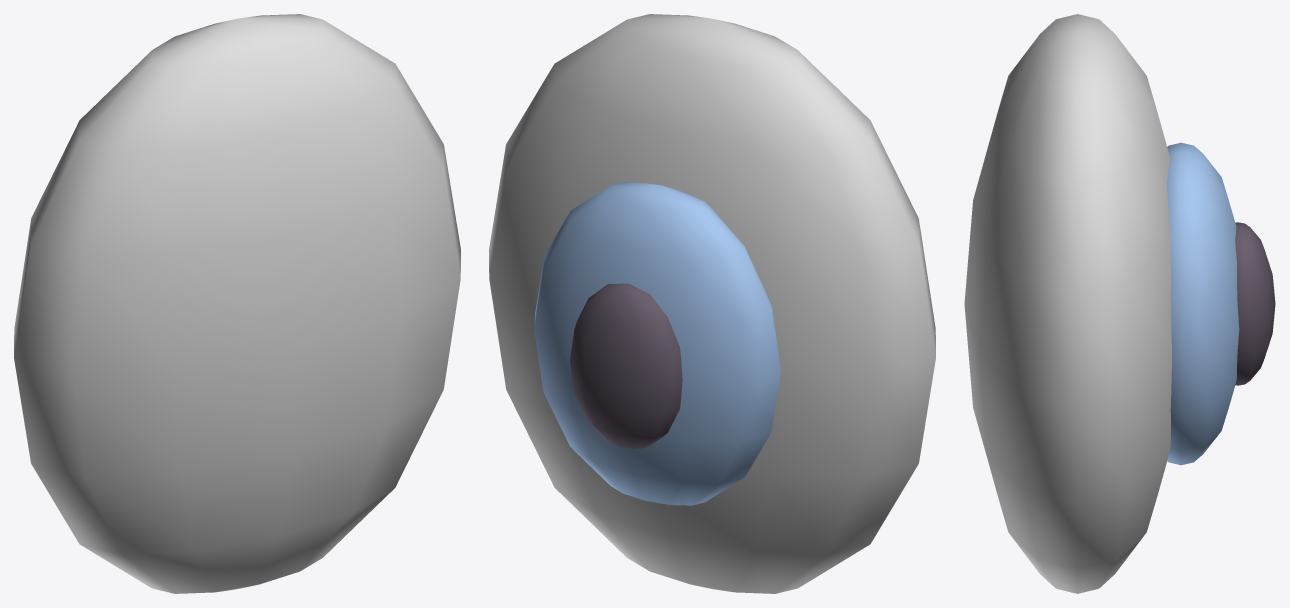
Rendered from extra-eyes-1-chibi-02.glb.
3 views of the same model, side by side, from view 1: azimuth 30°, elevation 25°; view 2: azimuth 150°, elevation 25°; view 3: azimuth 270°, elevation 25° (orthographic). The views are drawn at different scales.
Size of the model in its own units: 0.26 by 0.3172 by 0.165.
